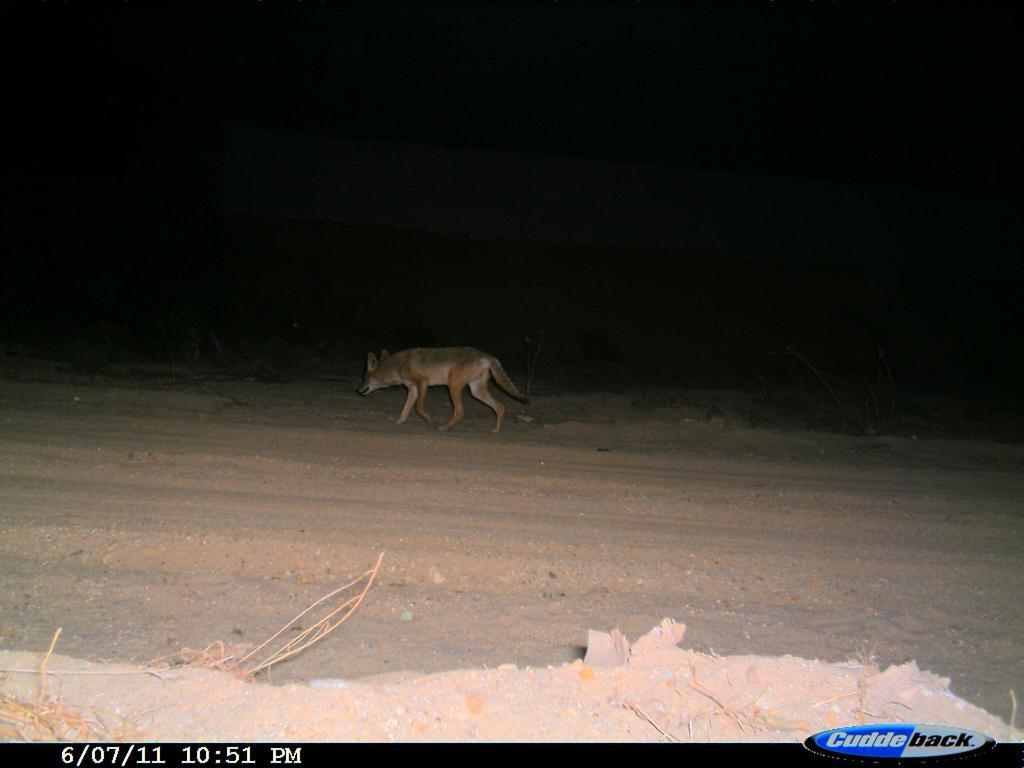coyote: (355, 341, 537, 438)
